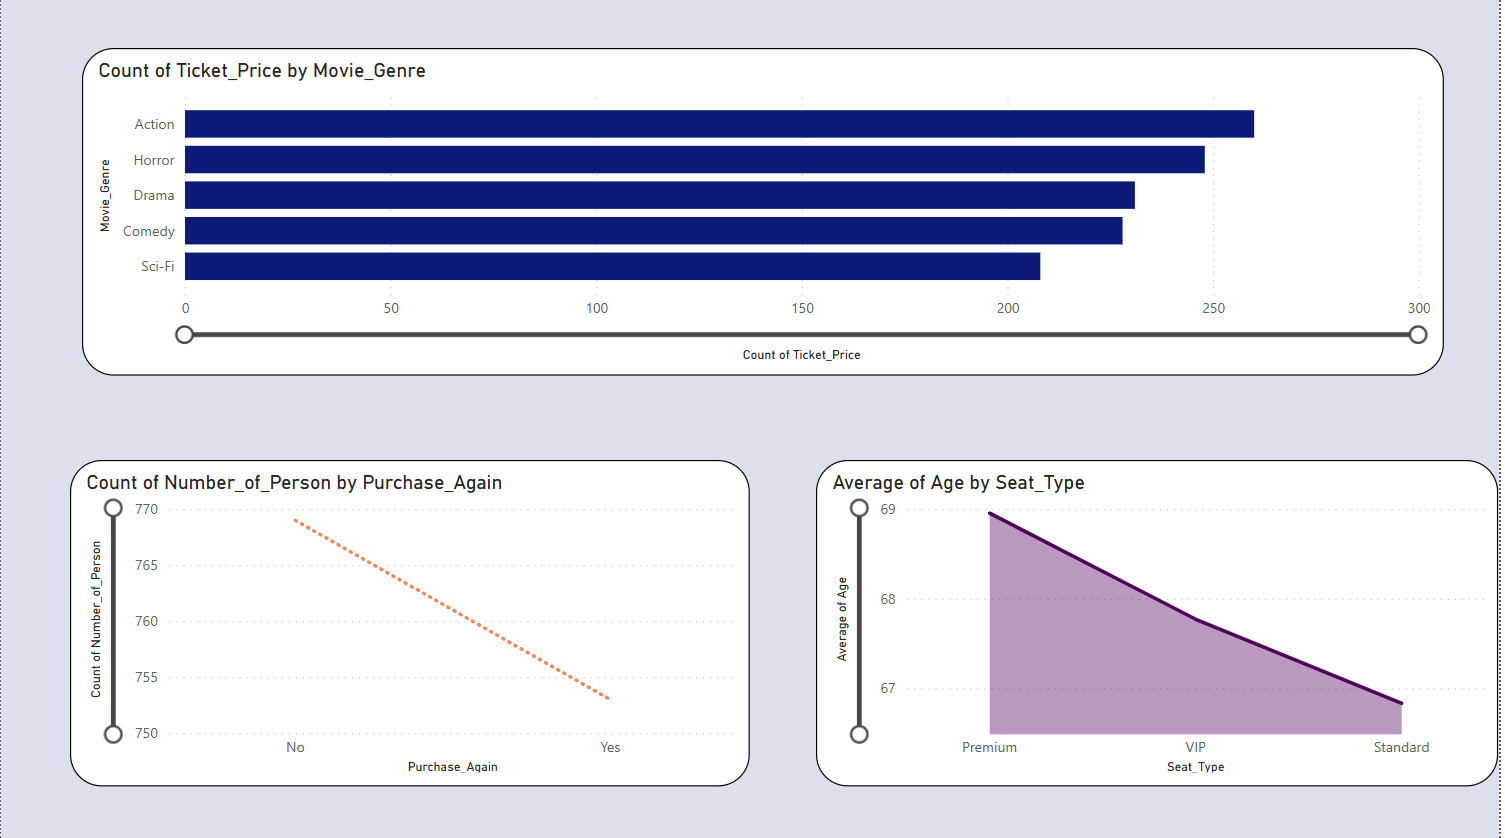

This screenshot's page, from the dashboard's own definition file:
{"tool":"powerbi","page":{"name":"Page 2","canvas":[1280,720],"ordinal":1},"visuals":[{"type":"clusteredBarChart","fields":{"Category":["cleaned_dataset.Movie_Genre"],"Y":["Count(cleaned_dataset.Ticket_Price)"]},"box":[69,43.1,1164.4,280.3],"z":0},{"type":"lineChart","fields":{"Category":["cleaned_dataset.Purchase_Again"],"Y":["CountNonNull(cleaned_dataset.Number_of_Person)"]},"box":[58.7,395,581.3,279.5],"z":1000},{"type":"areaChart","fields":{"Category":["cleaned_dataset.Seat_Type"],"Y":["Avg(cleaned_dataset.Age)"]},"box":[696.9,395,583.1,279.5],"z":2000}]}

Visuals, with their boxes in screenshot pixels (x1, y1, x2, y2), scaled from the page's 1280x720 canvas onto the 1505x838 screenshot:
clusteredBarChart - cleaned_dataset.Movie_Genre x Count(cleaned_dataset.Ticket_Price): 81:50:1450:376
lineChart - cleaned_dataset.Purchase_Again x CountNonNull(cleaned_dataset.Number_of_Person): 69:460:752:785
areaChart - cleaned_dataset.Seat_Type x Avg(cleaned_dataset.Age): 819:460:1504:785
